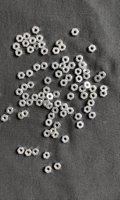nut: (32, 26, 40, 34), (71, 28, 79, 36), (89, 45, 97, 53), (16, 35, 24, 43), (15, 49, 23, 57), (62, 56, 70, 64), (76, 55, 84, 63), (95, 75, 103, 83), (71, 84, 79, 92), (79, 85, 87, 93), (67, 93, 75, 101), (43, 100, 51, 108), (75, 113, 83, 121), (45, 119, 53, 127), (62, 136, 70, 144), (17, 147, 25, 155), (23, 33, 31, 40), (29, 37, 37, 44), (36, 35, 44, 42), (22, 40, 30, 47), (27, 46, 34, 54), (52, 47, 60, 54), (18, 72, 25, 80), (41, 62, 48, 70), (52, 62, 59, 70), (79, 61, 86, 69), (68, 62, 76, 69), (59, 63, 67, 70), (99, 72, 107, 79), (65, 75, 73, 82), (45, 77, 52, 85), (27, 82, 35, 89), (89, 86, 97, 93), (100, 85, 108, 92), (90, 93, 98, 100), (81, 92, 88, 100), (84, 106, 91, 114), (89, 112, 97, 119), (53, 91, 61, 98), (22, 93, 30, 100), (7, 107, 14, 115), (31, 94, 39, 101), (38, 92, 45, 100), (36, 99, 43, 107), (61, 104, 68, 112), (50, 128, 57, 136), (44, 130, 51, 138), (25, 149, 32, 157), (32, 148, 39, 156), (43, 152, 50, 160), (45, 166, 52, 174), (54, 163, 62, 170), (13, 43, 20, 50), (34, 43, 41, 50), (41, 48, 48, 55), (56, 40, 63, 47), (59, 44, 66, 51), (26, 70, 33, 77), (81, 63, 88, 70), (63, 66, 70, 73), (75, 68, 82, 75), (76, 76, 83, 83), (56, 71, 63, 78), (61, 80, 68, 87), (21, 84, 28, 91), (16, 89, 23, 96), (84, 82, 91, 89), (88, 100, 95, 107), (43, 87, 50, 94), (1, 115, 8, 122), (19, 100, 26, 107), (26, 99, 33, 106), (18, 112, 25, 119), (22, 111, 29, 118), (47, 93, 54, 100), (46, 103, 53, 110), (55, 101, 62, 108), (52, 107, 59, 114), (67, 108, 74, 115), (77, 122, 84, 129), (48, 113, 55, 120), (54, 122, 61, 129), (52, 132, 59, 139), (34, 64, 40, 72), (83, 69, 91, 75), (83, 74, 91, 80), (100, 91, 108, 97), (39, 42, 46, 48), (43, 97, 49, 104), (61, 111, 67, 118), (62, 104, 69, 109)
